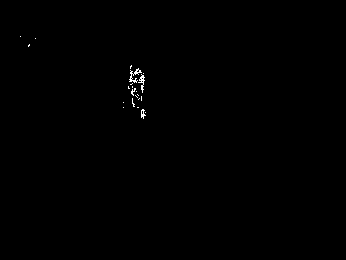person: (127, 63, 151, 120)
